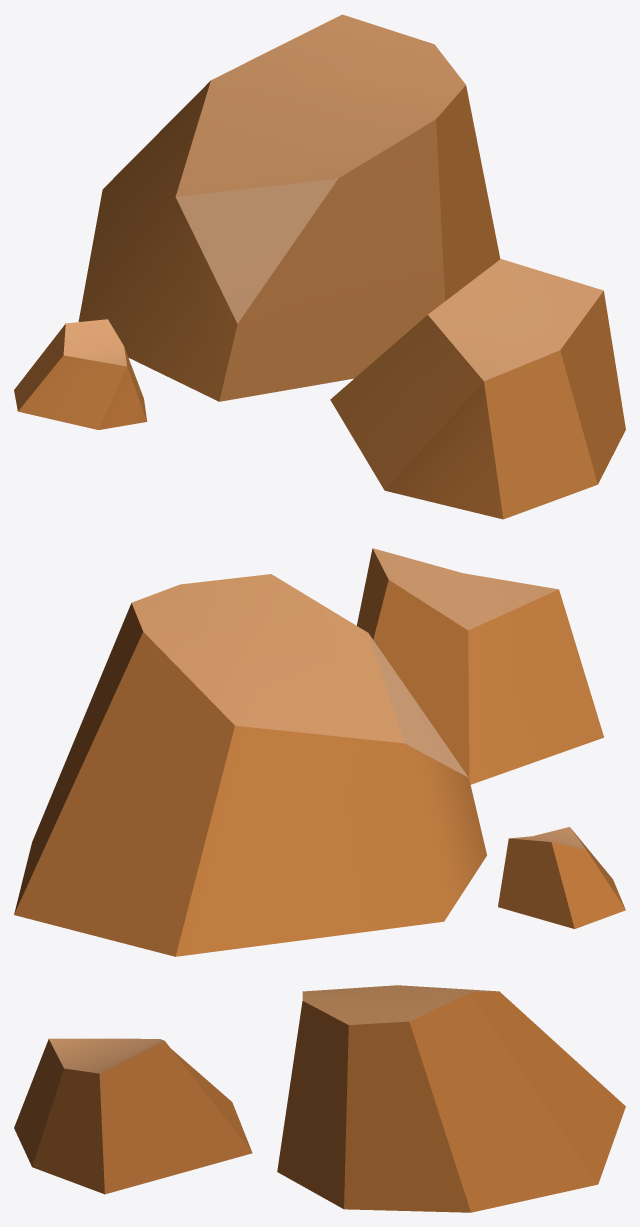
File: stonedecor.fbx
3 renders of one model, top to bottom at view 1: azimuth 30°, elevation 25°; view 2: azimuth 150°, elevation 25°; view 3: azimuth 270°, elevation 25°, orthographic. The views are drawn at different scales.
Parts seen in each view (by area): view 1: stonedecor; view 2: stonedecor; view 3: stonedecor.
Boxes of the visible parts, <box> form: stonedecor: <box>14,14,625,519</box>; stonedecor: <box>14,548,625,956</box>; stonedecor: <box>14,985,625,1212</box>.
Size of the model in its own units: 108 by 49.81 by 147.
